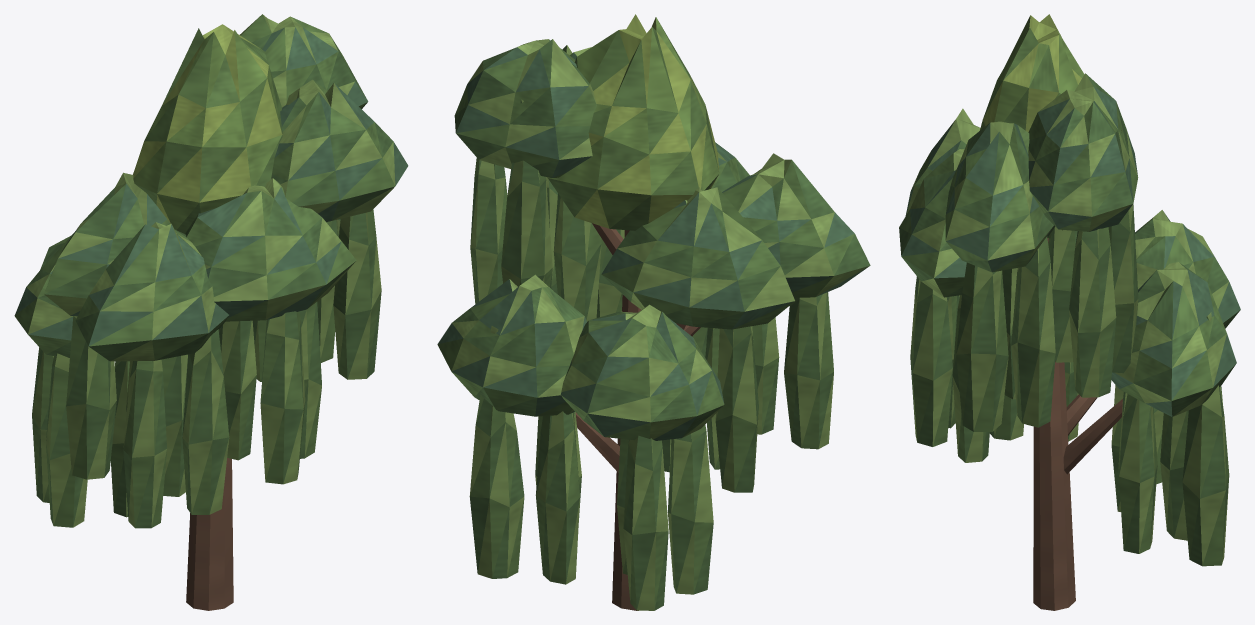
Rendered from tree_willow_03.fbx.
3 renders of one model, left to right at view 1: azimuth 30°, elevation 25°; view 2: azimuth 150°, elevation 25°; view 3: azimuth 270°, elevation 25°, orthographic.
Parts seen in each view (by area): view 1: tree_willow_03; view 2: tree_willow_03; view 3: tree_willow_03.
Part boxes in pixels (left/top/right/bottom): tree_willow_03: left=14, top=14, right=408, bottom=610; tree_willow_03: left=437, top=14, right=870, bottom=610; tree_willow_03: left=899, top=14, right=1240, bottom=610.
Size of the model in its own units: 767 by 1240 by 660.
Materials: 1 (1 with a texture image).
